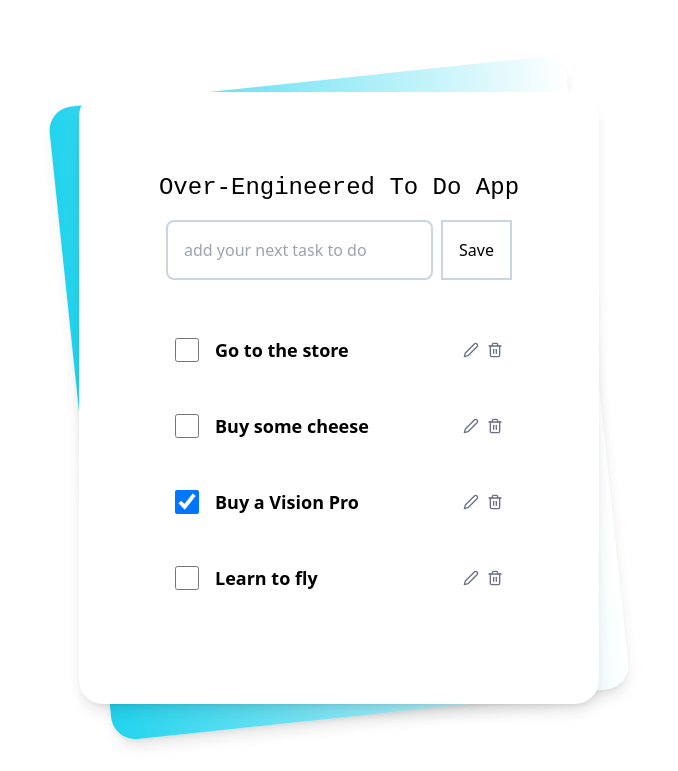
it: Task › when save is clicked, title is updated
Expected: the label with test id "task-title" reads "Go to the store", [215,338,349,362]
Click the button named "Edit Go to the store" at (471, 350), box [463,342,479,358]
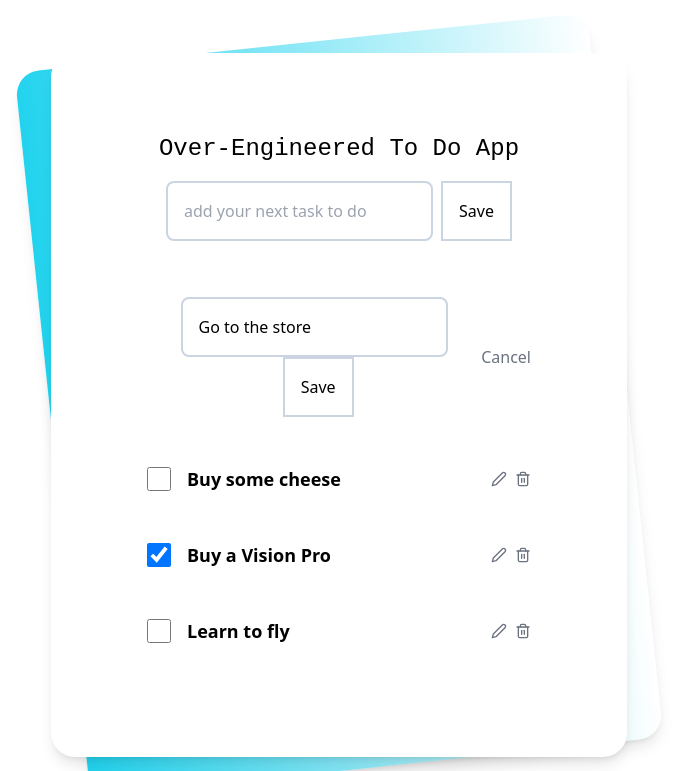
Now the 2nd button "Save" is shown, box [283,357,354,417]
Replace the text in the field named "Task Input" with "Do not go to the store" at (314, 327), box [181,297,448,357]
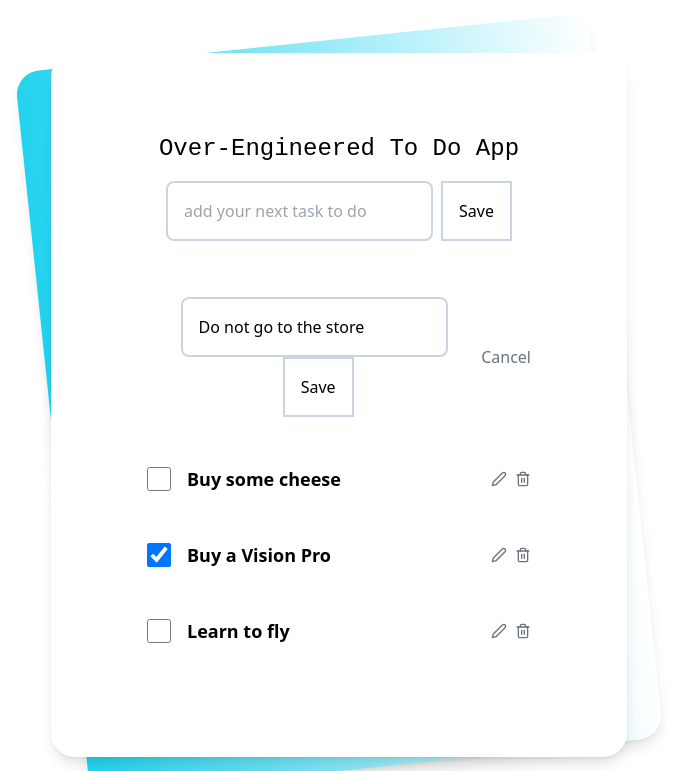
Click the 2nd button "Save" at (318, 387), box [283,357,354,417]
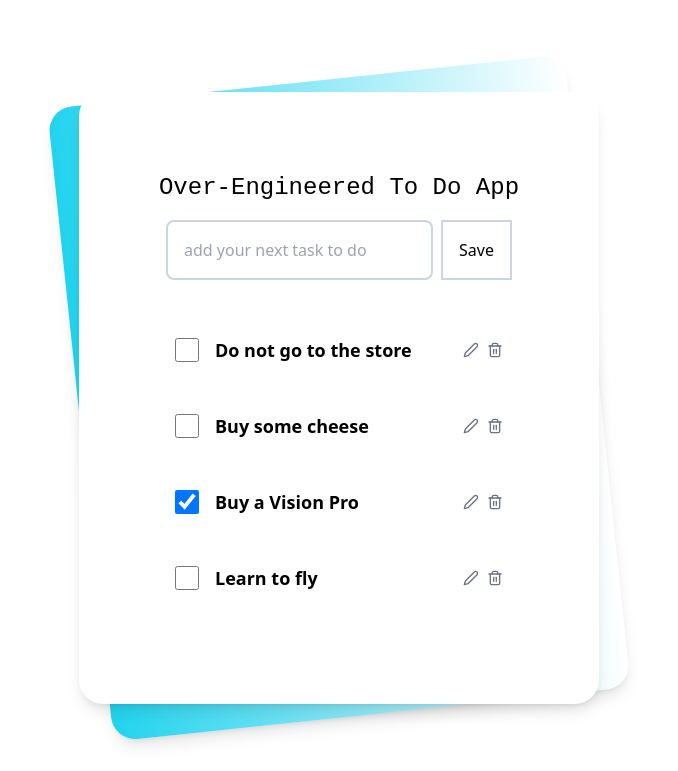
Now the label with test id "task-title" reads "Do not go to the store", box [215,338,412,362]
